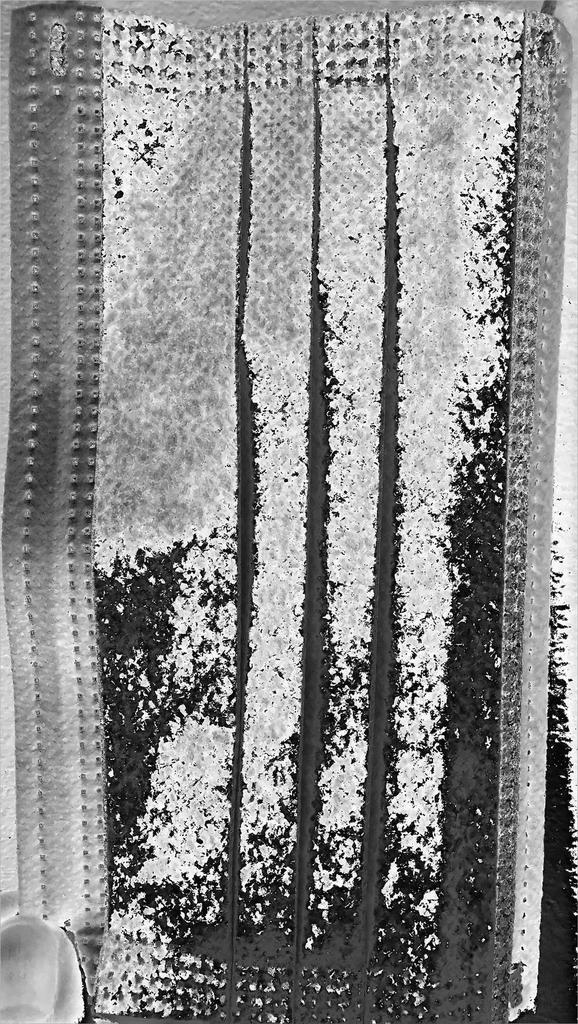High GSM: (84, 9, 527, 1024)
